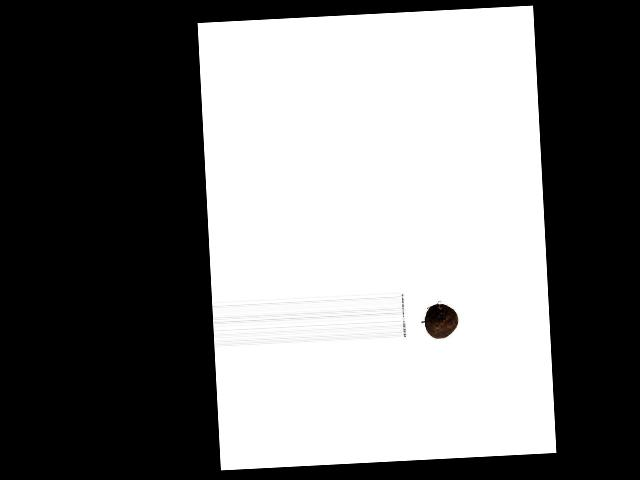beet: (424, 304, 458, 340)
